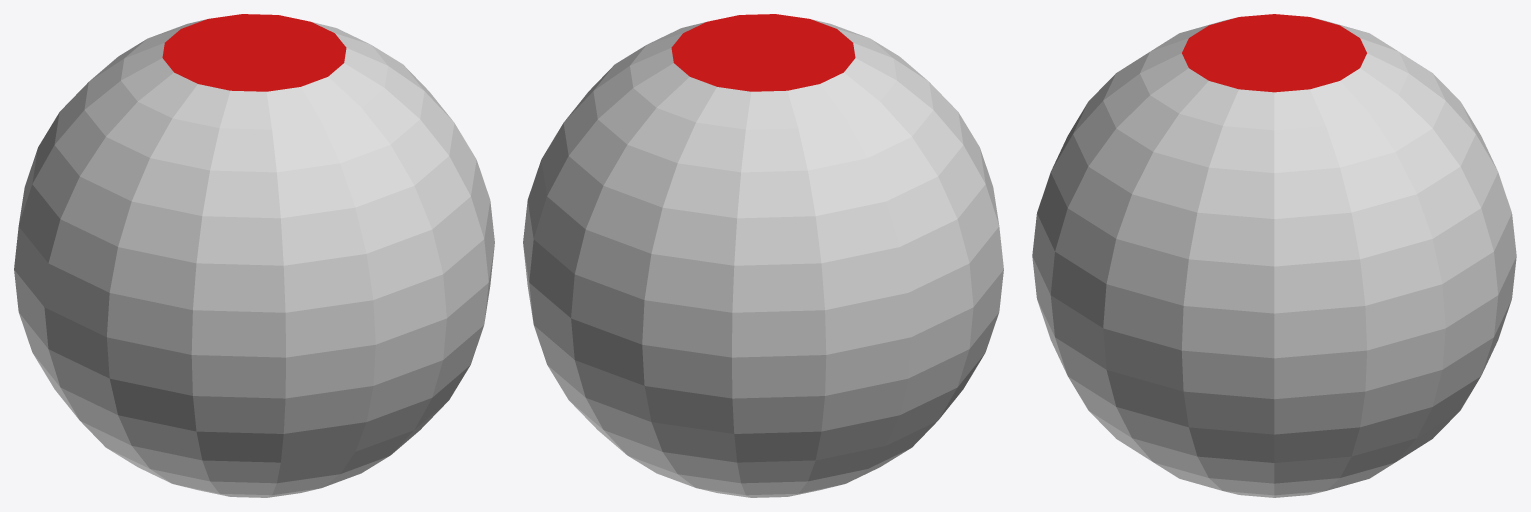
File: sphere_cut.obj
3 renders of one model, left to right at view 1: azimuth 30°, elevation 25°; view 2: azimuth 150°, elevation 25°; view 3: azimuth 270°, elevation 25°, orthographic.
Visible parts, largest first — view 1: sphere1; view 2: sphere1; view 3: sphere1.
Part boxes in pixels (left/top/right/bottom): sphere1: left=14, top=14, right=494, bottom=497; sphere1: left=523, top=14, right=1003, bottom=497; sphere1: left=1032, top=14, right=1516, bottom=497.
Size of the model in its own units: 2 by 1.92 by 2.
